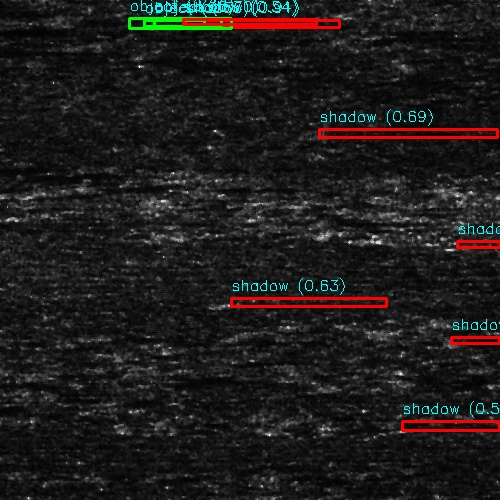rock: (355, 29, 408, 40), (155, 20, 196, 25), (491, 189, 500, 196)
shadow: (382, 29, 500, 40), (0, 44, 75, 55), (176, 20, 328, 25), (0, 456, 57, 465)
